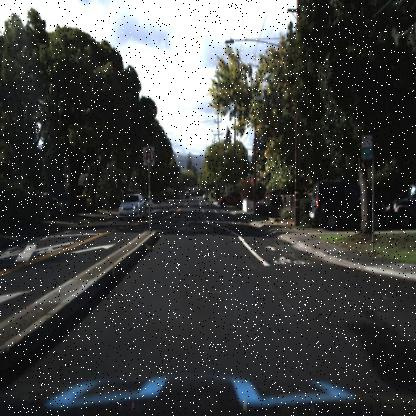car: (309, 172, 381, 229), (114, 187, 148, 224), (40, 186, 67, 228), (215, 187, 242, 208)
